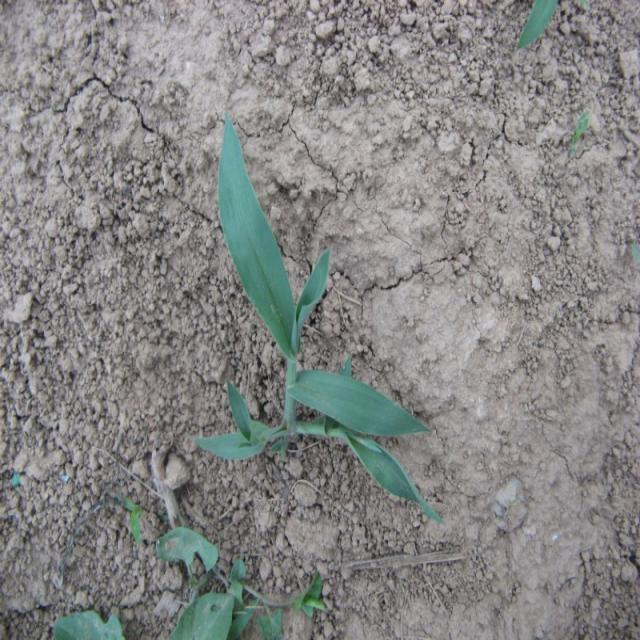bg: (193, 114, 442, 525)
